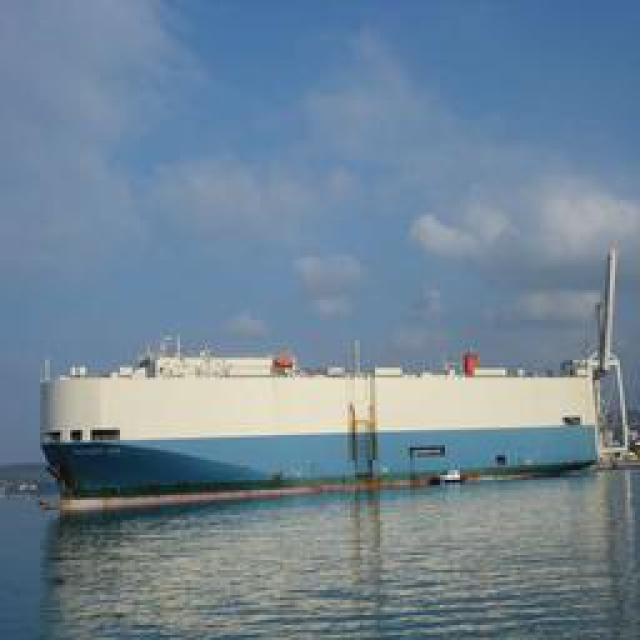Ship: (36, 268, 624, 493)
